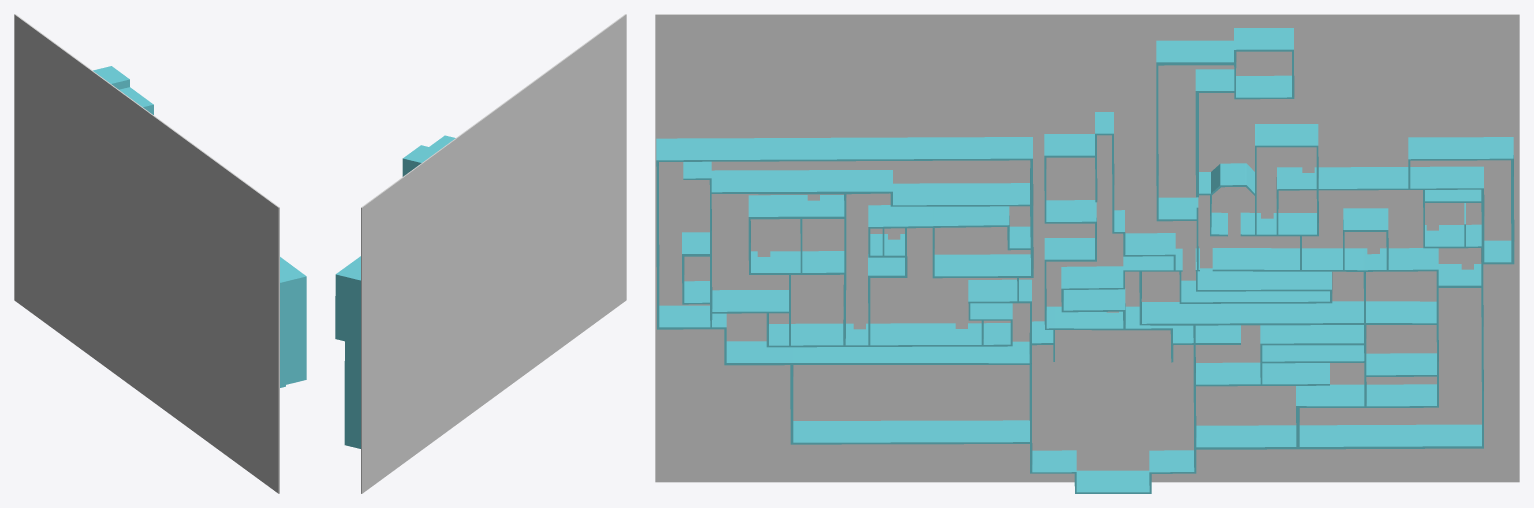
File: mansion-2.fbx
3 views of the same model, side by side, from view 1: azimuth 30°, elevation 25°; view 2: azimuth 150°, elevation 25°; view 3: azimuth 270°, elevation 25° (orthographic). The views are drawn at different scales.
Parts seen in each view (by area): view 1: Cube.001, Cube; view 2: Cube.001, Cube; view 3: Cube.001, Cube.
Boxes of the visible parts, box(x1,y1,x2,y2) form: Cube.001: box(14, 14, 279, 493); Cube: box(93, 66, 306, 387); Cube.001: box(361, 14, 626, 493); Cube: box(335, 135, 455, 448); Cube.001: box(655, 14, 1519, 482); Cube: box(656, 28, 1514, 493).
Size of the model in its own units: 4939 by 47618 by 79815.
